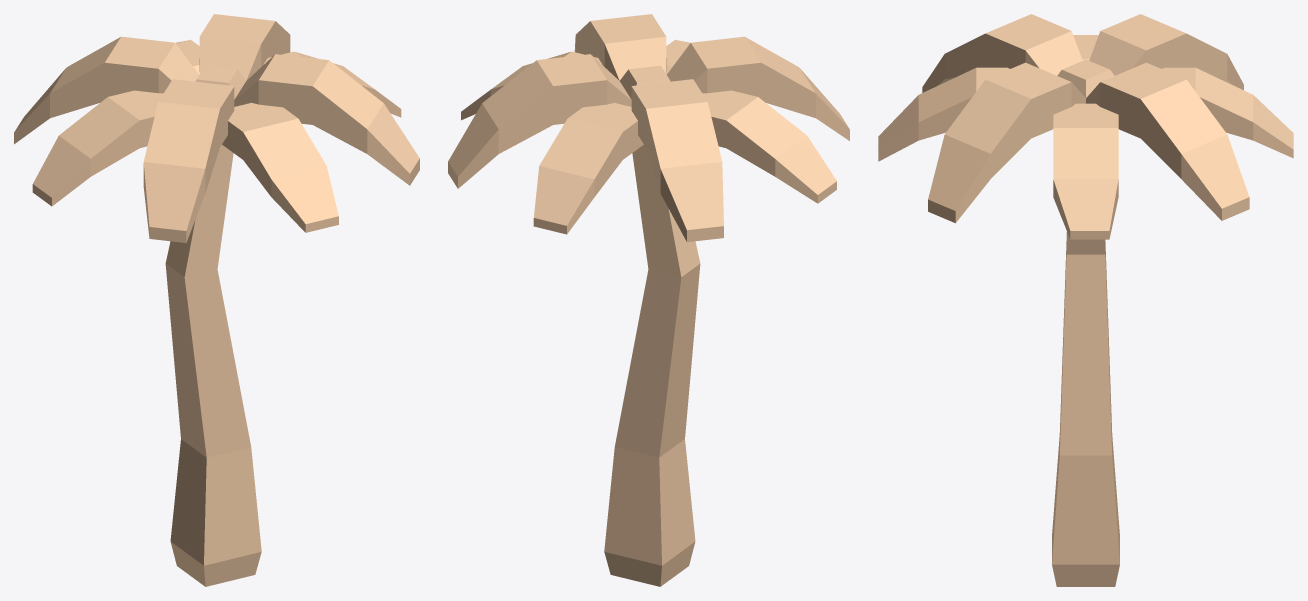
The model's file is palmDetailed_large.fbx.
3 views of the same model, side by side, from view 1: azimuth 30°, elevation 25°; view 2: azimuth 150°, elevation 25°; view 3: azimuth 270°, elevation 25° (orthographic).
Parts seen in each view (by area): view 1: palmDetailed_large; view 2: palmDetailed_large; view 3: palmDetailed_large.
Boxes of the visible parts, x1,y1,x2,y2 form: palmDetailed_large: (14, 14, 419, 586); palmDetailed_large: (448, 14, 849, 586); palmDetailed_large: (878, 14, 1293, 586).
Size of the model in its own units: 232 by 319 by 232.
